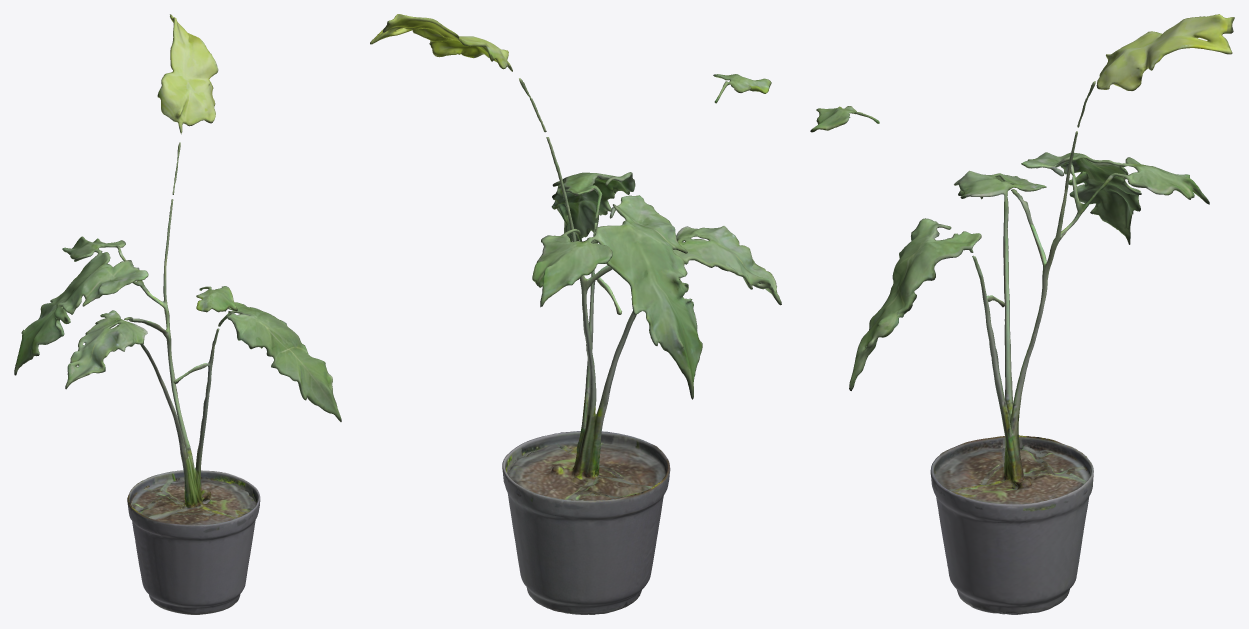
Rendered from neem.glb.
The picture shows the model from 3 angles, left to right: view 1: azimuth 30°, elevation 25°; view 2: azimuth 150°, elevation 25°; view 3: azimuth 270°, elevation 25°; orthographic projection. The views are drawn at different scales.
Size of the model in its own units: 0.9335 by 2 by 1.25.
Materials: 1 (1 with a texture image).
